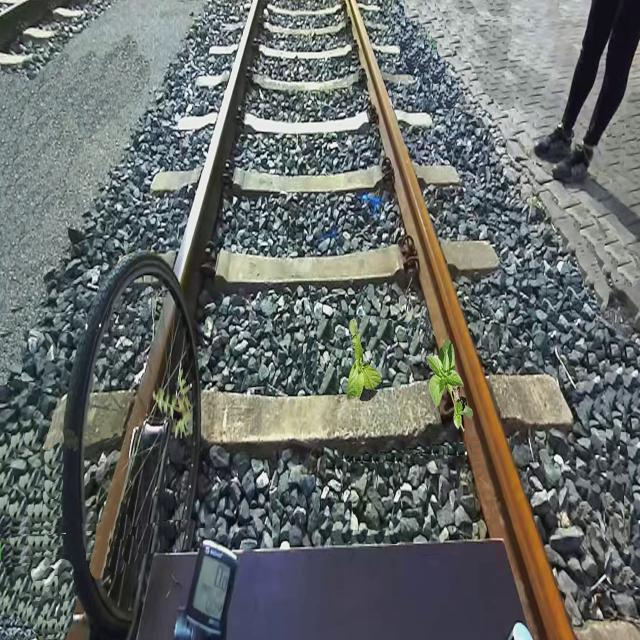Plant: (426, 337, 474, 432), (152, 368, 193, 440), (347, 318, 382, 402)
